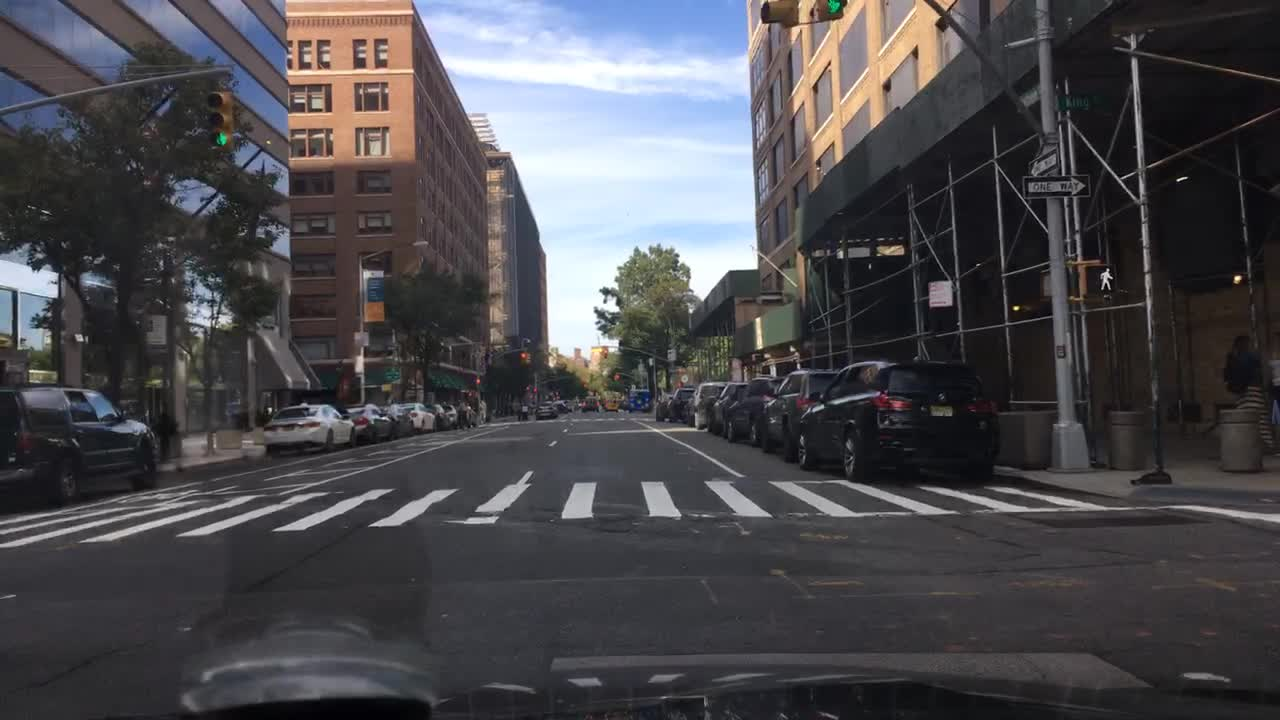car: (795, 359, 1003, 487), (0, 385, 160, 515), (756, 366, 837, 464), (260, 403, 358, 457), (725, 375, 776, 446), (344, 401, 402, 446), (681, 380, 727, 431), (706, 382, 746, 436), (377, 401, 419, 439), (398, 401, 440, 436), (662, 387, 692, 424), (423, 399, 451, 431), (625, 387, 653, 413), (451, 401, 479, 427), (653, 392, 676, 422), (534, 401, 561, 422), (440, 403, 459, 425), (580, 396, 601, 411), (603, 397, 620, 413), (559, 397, 575, 413), (550, 399, 568, 413), (615, 397, 627, 413)
person: (1217, 329, 1265, 411), (512, 400, 522, 420), (519, 402, 527, 425), (529, 400, 536, 416)
traffic light: (1077, 261, 1118, 301), (758, 0, 798, 27), (815, 3, 845, 22), (378, 383, 396, 394), (609, 369, 621, 385), (518, 348, 527, 367), (600, 348, 611, 362), (473, 376, 482, 392)
traffic sign: (1020, 171, 1090, 202), (927, 277, 955, 307), (1029, 146, 1058, 174), (1055, 94, 1090, 111), (352, 329, 369, 348), (383, 367, 403, 381), (665, 345, 677, 364)
